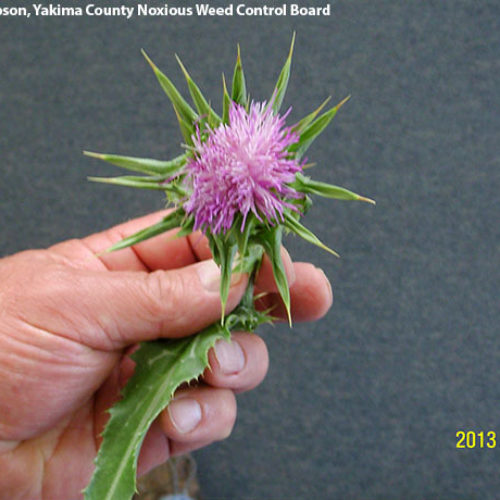thistle: (128, 41, 349, 272)
